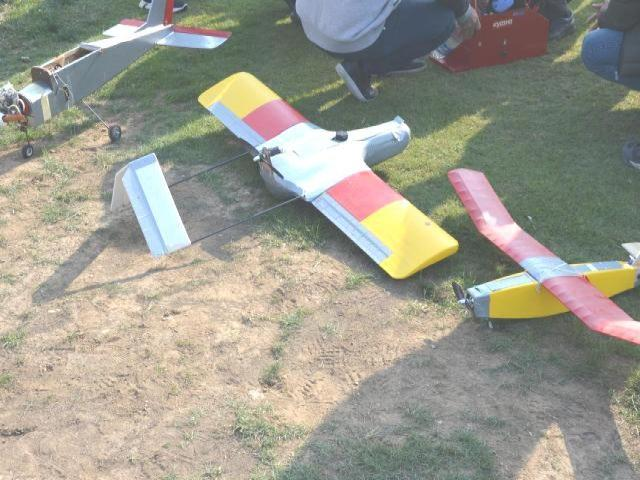iha: (447, 184, 640, 349)
